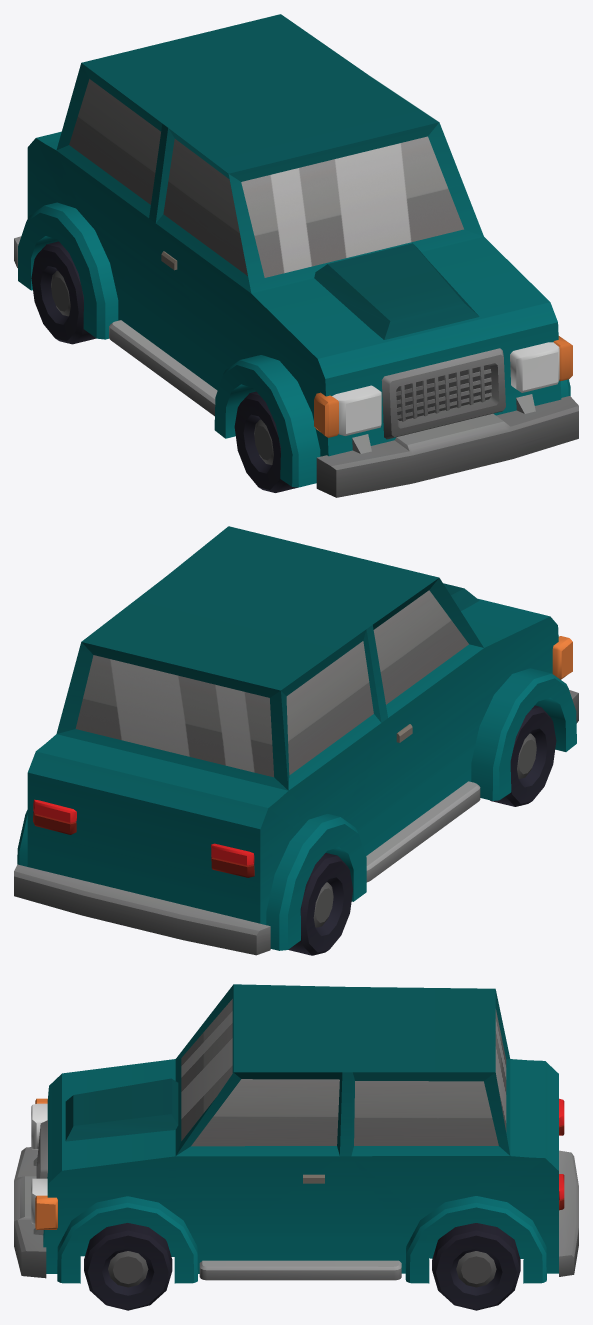
Rendered from Car_3_2.glb.
The picture shows the model from 3 angles, top to bottom: view 1: azimuth 30°, elevation 25°; view 2: azimuth 150°, elevation 25°; view 3: azimuth 270°, elevation 25°; orthographic projection. The views are drawn at different scales.
Visible parts, largest first — view 1: Car_3_2, Wheel_Br, Wheel_Fr; view 2: Car_3_2, Wheel_Br, Wheel_Fr; view 3: Car_3_2, Wheel_Bl, Wheel_Fl.
Boxes of the visible parts, x1,y1,x2,y2 form: Car_3_2: (14, 14, 578, 497); Wheel_Br: (31, 241, 96, 344); Wheel_Fr: (234, 391, 297, 492); Car_3_2: (14, 526, 578, 955); Wheel_Br: (288, 853, 353, 955); Wheel_Fr: (490, 705, 556, 806); Car_3_2: (14, 984, 578, 1283); Wheel_Bl: (432, 1223, 520, 1310); Wheel_Fl: (84, 1223, 172, 1310).
Bounding box in the file's own units: 1.13 × 1.02 × 2.3.
Materials: 6 (6 with a texture image).
